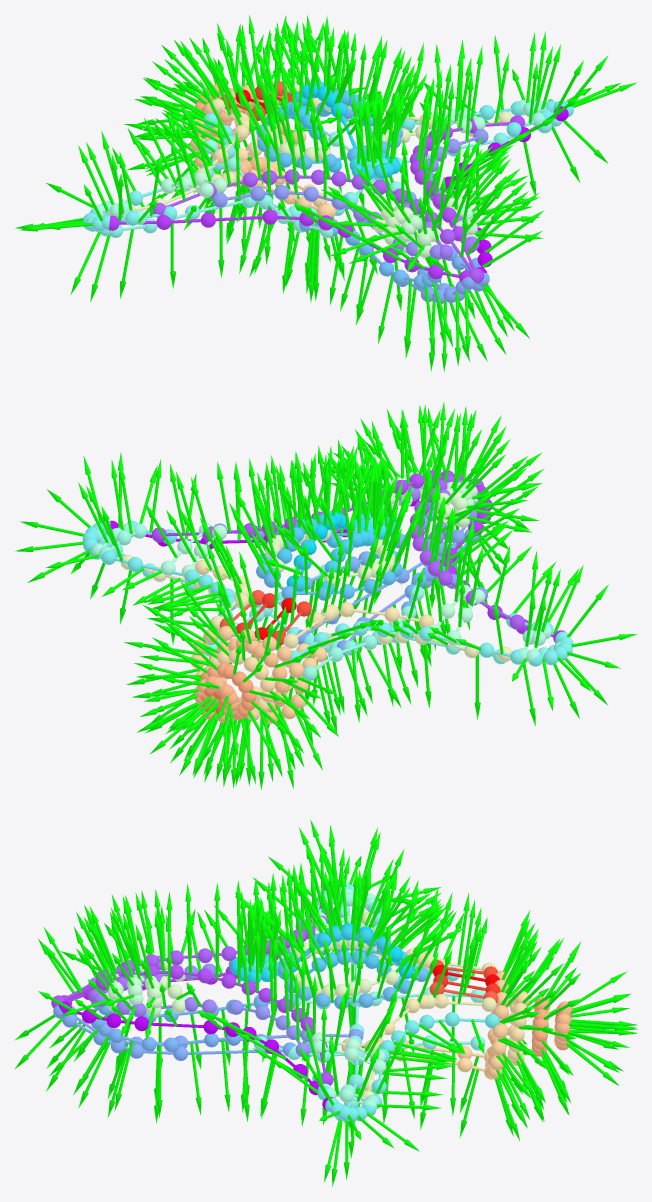
Rendered from author1_ship.gltf.
The picture shows the model from 3 angles, top to bottom: view 1: azimuth 30°, elevation 25°; view 2: azimuth 150°, elevation 25°; view 3: azimuth 270°, elevation 25°; orthographic projection. The views are drawn at different scales.
Size of the model in its own units: 0.9029 by 0.3885 by 0.835.
